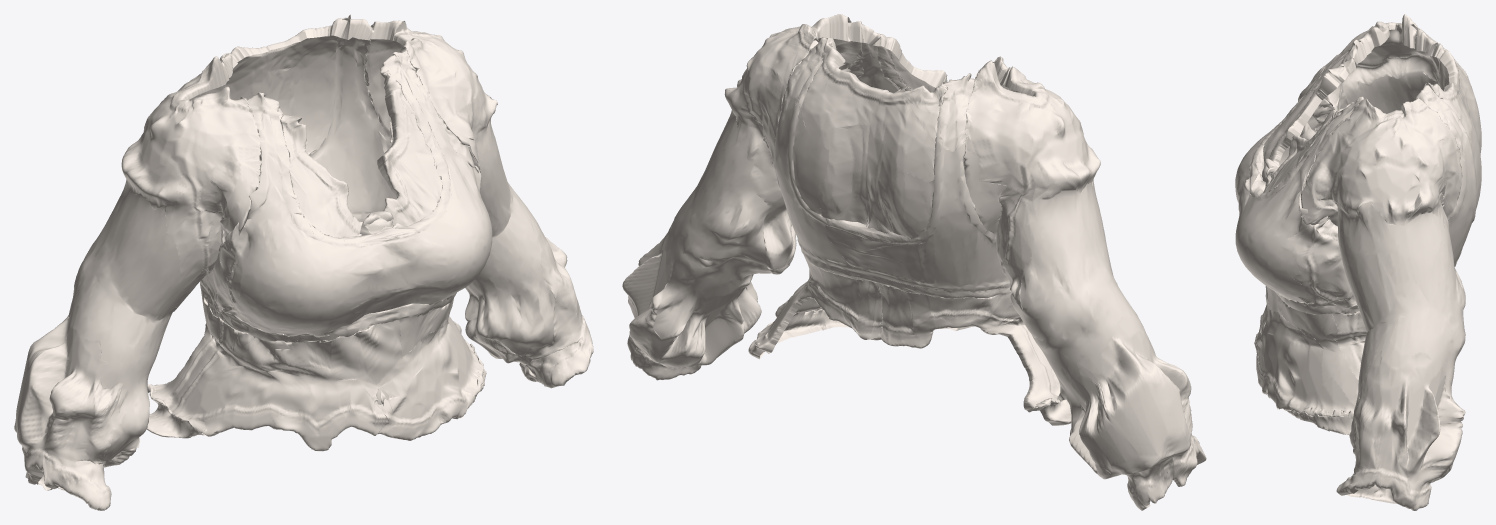
The model's file is top_f_wrap.glb.
3 views of the same model, side by side, from view 1: azimuth 30°, elevation 25°; view 2: azimuth 150°, elevation 25°; view 3: azimuth 270°, elevation 25° (orthographic). The views are drawn at different scales.
Visible parts, largest first — view 1: top_f_wrap; view 2: top_f_wrap; view 3: top_f_wrap.
Part boxes in pixels (<box>): top_f_wrap: <box>14,14,593,510</box>; top_f_wrap: <box>622,14,1206,510</box>; top_f_wrap: <box>1235,14,1481,510</box>.
Size of the model in its own units: 0.8058 by 0.5562 by 0.343.
1 material, 1 textured.
